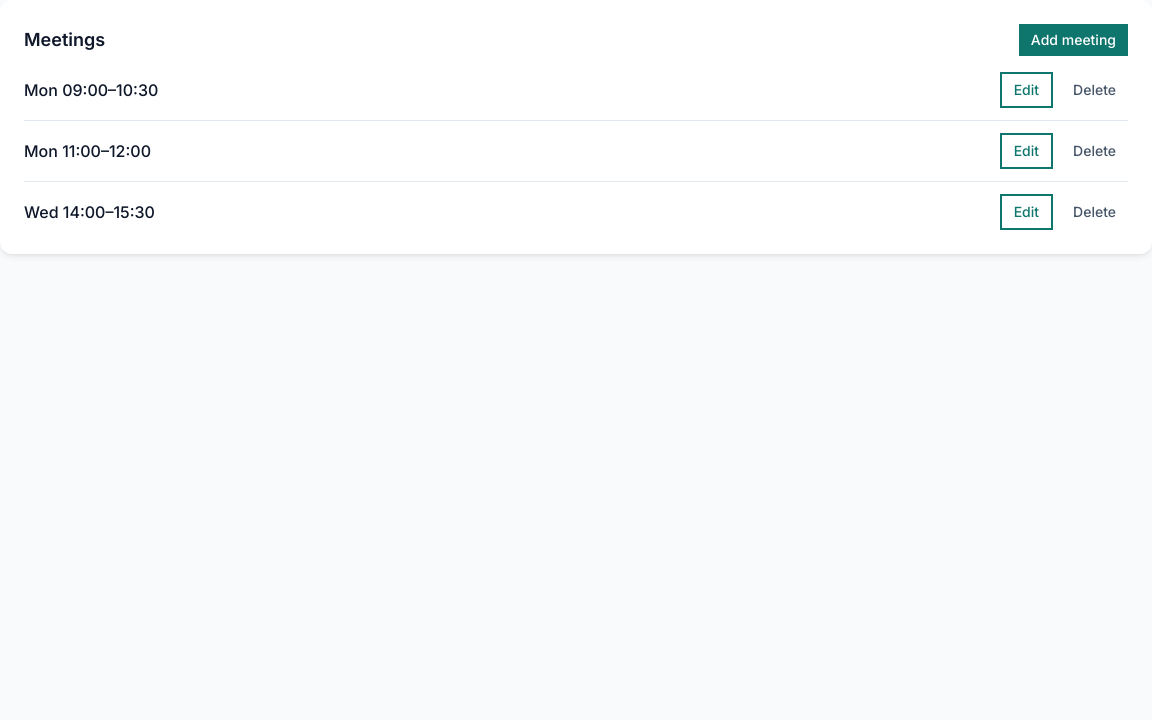
it: MeetingsSection add (AC 3, D112B-3/10) › closes on Cancel without a request or a change
The image size is (1152, 720).
Click the button "Add meeting" at (1073, 40), box x1=1019 y1=24 x2=1128 y2=56
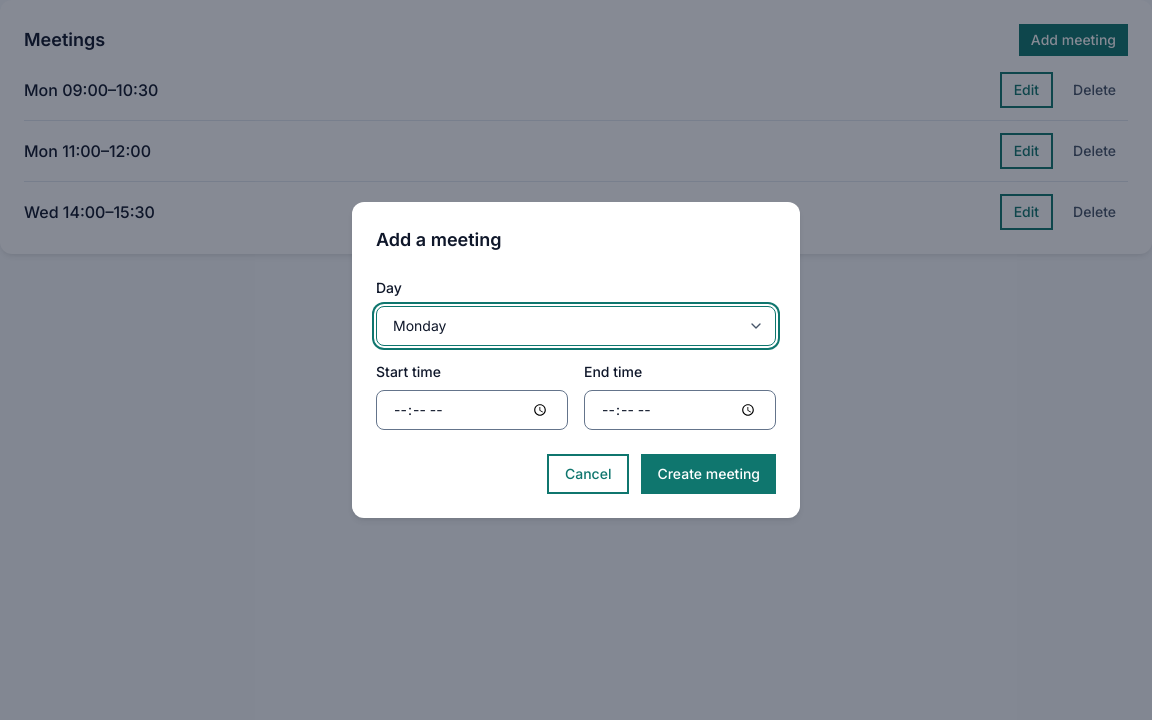
Now the dialog is shown, box x1=352 y1=202 x2=800 y2=518
Click the button "Cancel" at (588, 474), box x1=547 y1=454 x2=629 y2=494
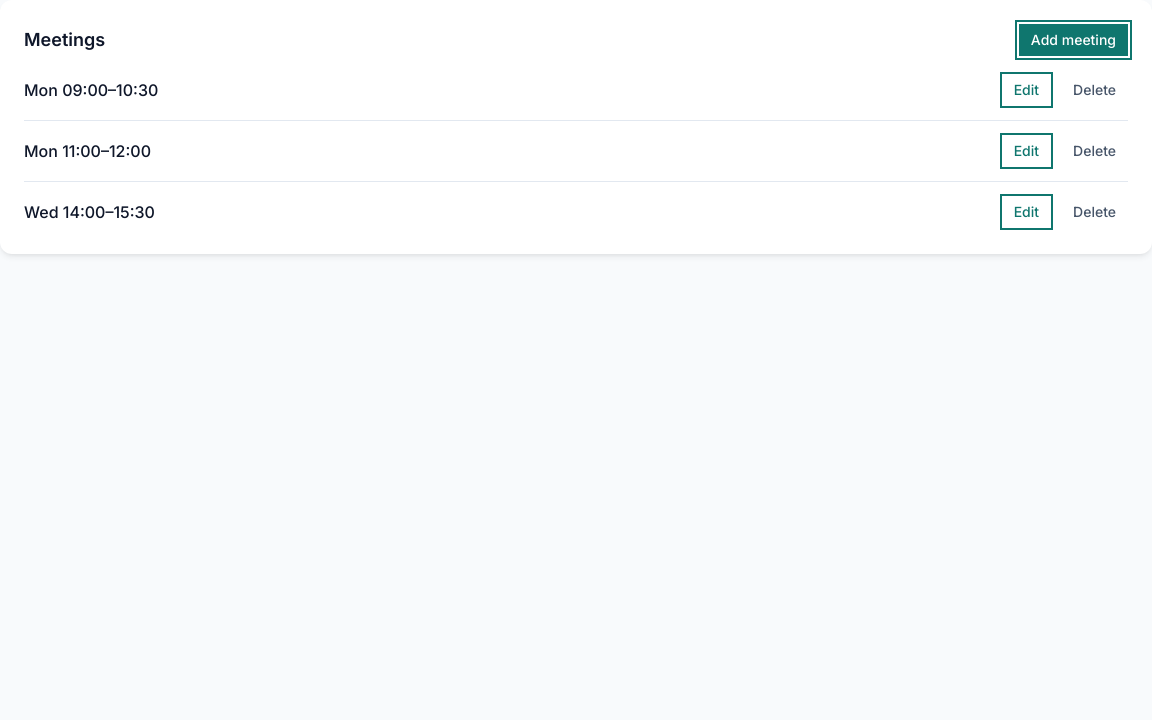
Now the dialog is gone
